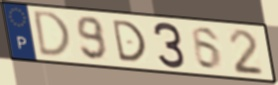2: (227, 27, 266, 76)
3: (150, 20, 185, 70)
6: (190, 26, 225, 71)
9: (75, 15, 111, 62)
D: (32, 9, 73, 58), (110, 19, 148, 63)
